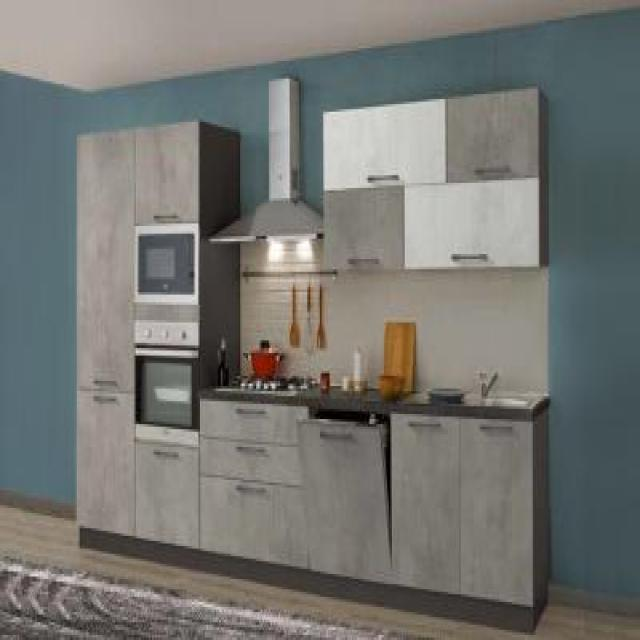dishwasher: (293, 396, 397, 587)
